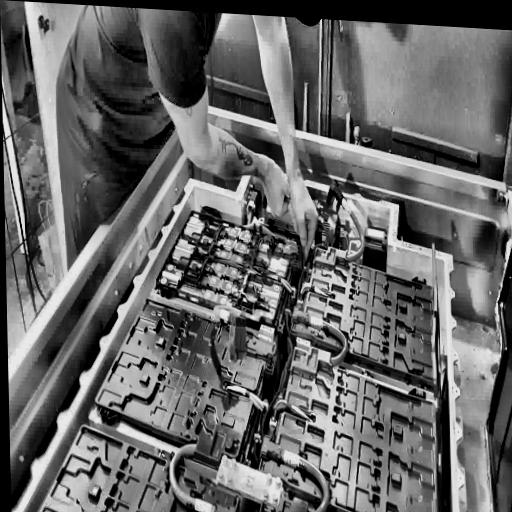high_volt_cable: (269, 437, 339, 512), (327, 174, 370, 269), (168, 440, 221, 512), (298, 312, 351, 371), (212, 305, 261, 340), (243, 205, 276, 238)
low_volt_cable: (255, 249, 309, 453)
nut: (220, 453, 229, 466), (272, 491, 279, 504), (263, 488, 270, 500), (275, 476, 281, 488), (231, 457, 237, 469), (218, 468, 224, 480), (227, 473, 233, 484), (267, 472, 272, 484)
